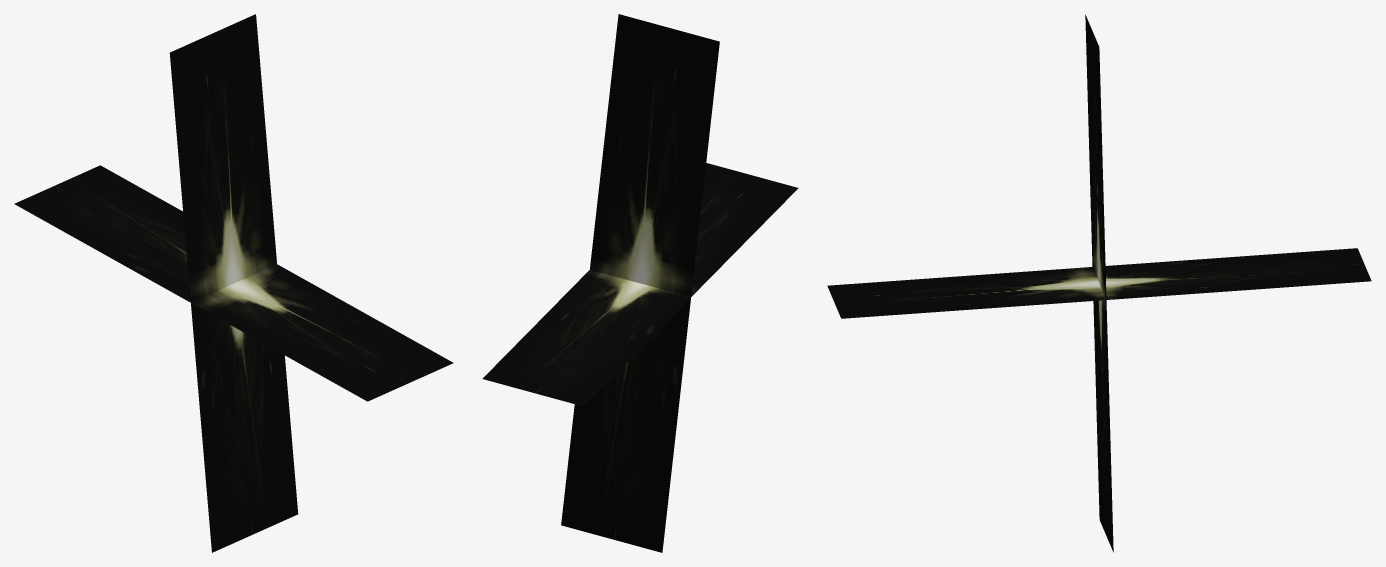
The picture shows the model from 3 angles, left to right: view 1: azimuth 30°, elevation 25°; view 2: azimuth 150°, elevation 25°; view 3: azimuth 270°, elevation 25°; orthographic projection. The views are drawn at different scales.
Visible parts, largest first — view 1: 1_1; view 2: 1_1; view 3: 1_1.
Boxes of the visible parts, <box> form: 1_1: <box>14,14,453,552</box>; 1_1: <box>482,14,798,552</box>; 1_1: <box>827,14,1371,552</box>.
Size of the model in its own units: 0.4893 by 1.52 by 1.52.
